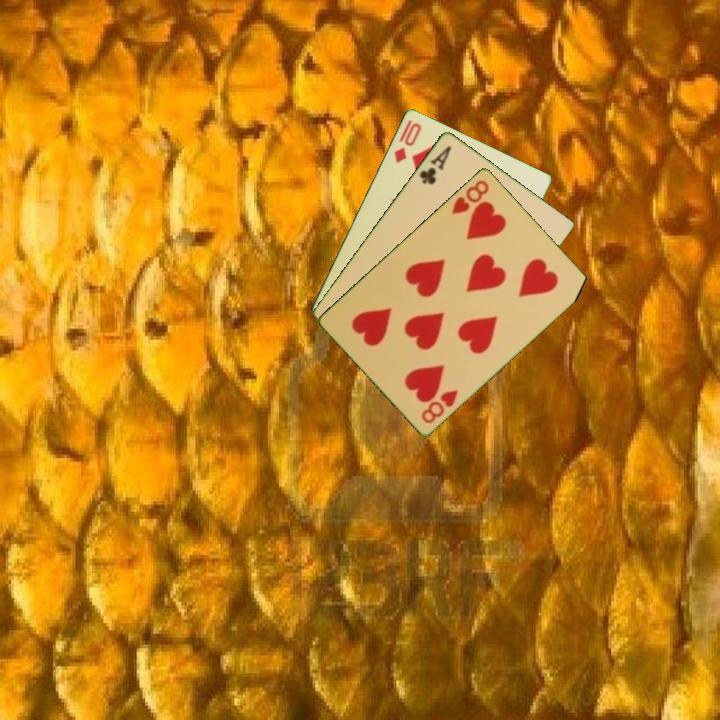10d: (390, 119, 424, 166)
8h: (448, 176, 492, 217), (418, 386, 461, 426)
Ac: (415, 141, 454, 187)
